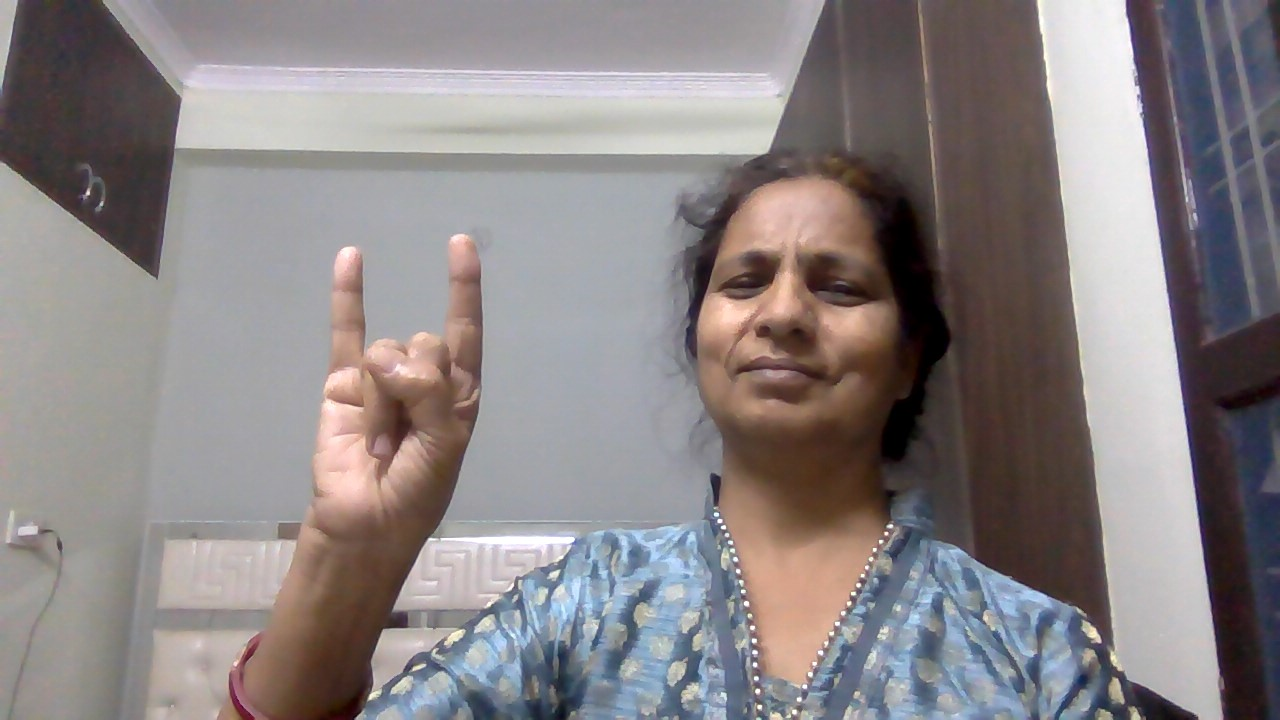Select All: (297, 228, 497, 553)
